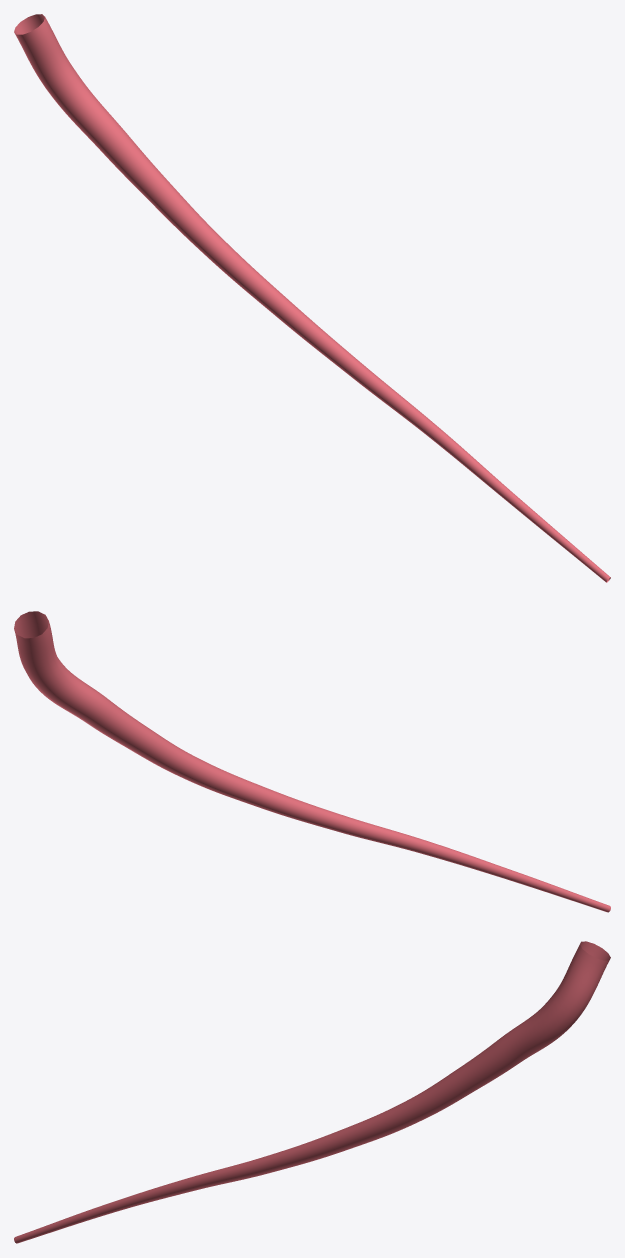
3 views of the same model, one above another, from view 1: azimuth 90°, elevation 25°; view 2: azimuth 150°, elevation 25°; view 3: azimuth 270°, elevation 25° (orthographic). The views are drawn at different scales.
Parts seen in each view (by area): view 1: ZA_a11086f5c03eaa90; view 2: ZA_a11086f5c03eaa90; view 3: ZA_a11086f5c03eaa90.
Boxes of the visible parts, <box> form: ZA_a11086f5c03eaa90: <box>14,14,610,582</box>; ZA_a11086f5c03eaa90: <box>14,611,610,912</box>; ZA_a11086f5c03eaa90: <box>14,941,610,1243</box>.
Size of the model in its own units: 0.0097 by 0.0136 by 0.0171.
